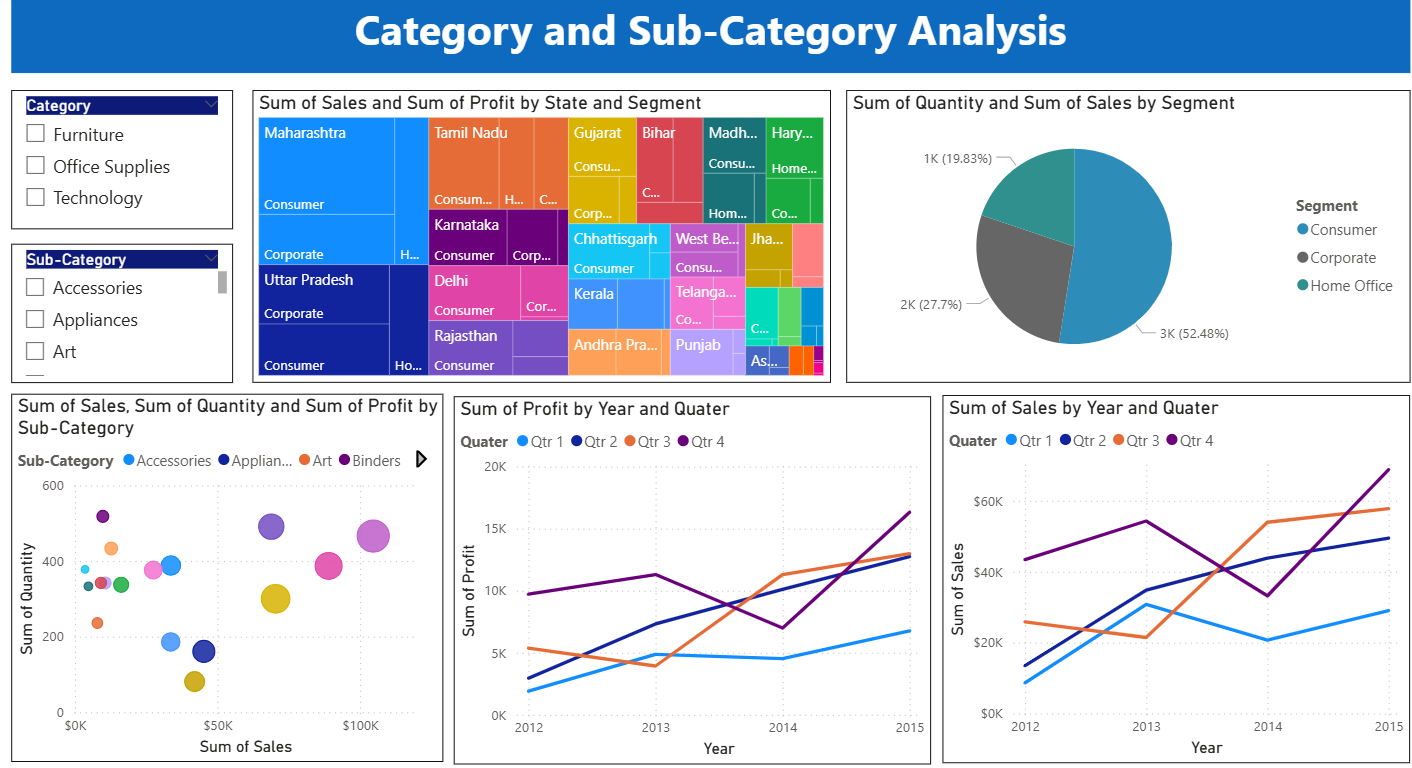

The dashboard page shown, as its layout file describes it:
{"tool":"powerbi","page":{"name":"Category and Sub-Category","canvas":[1280,720],"ordinal":2},"visuals":[{"type":"textbox","box":[10,0,1261.4,70],"z":0},{"type":"slicer","fields":{"Values":["Orders.Category"]},"box":[10,85.8,200.3,125.6],"z":1000},{"type":"slicer","fields":{"Values":["Orders.Sub-Category"]},"box":[10,223.9,200.3,125.6],"z":2000},{"type":"treemap","fields":{"Details":["Orders.Segment"],"Values":["Sum(Orders.Sales)"],"Group":["Orders.State"]},"box":[227.6,85.8,521.2,263.7],"z":3000},{"type":"pieChart","fields":{"Category":["Orders.Segment"],"Y":["Sum(Orders.Quantity)"]},"box":[762.5,85.8,508.8,263.7],"z":4000},{"type":"scatterChart","fields":{"Series":["Orders.Sub-Category"],"X":["Sum(Orders.Sales)"],"Y":["Sum(Orders.Quantity)"],"Size":["Sum(Orders.Profit)"]},"box":[10,359.5,389.4,332.1],"z":5000},{"type":"lineChart","fields":{"Category":["Orders.Year"],"Series":["Orders.Quater"],"Y":["Sum(Orders.Profit)"]},"box":[409.3,362,430.4,332.1],"z":5001},{"type":"lineChart","fields":{"Category":["Orders.Year"],"Series":["Orders.Quater"],"Y":["Sum(Orders.Sales)"]},"box":[849.6,360.7,421.7,332.1],"z":5002}]}

Visuals, with their boxes on the page's 1280x720 design canvas (x1, y1, x2, y2). These are canvas units, not pixel positions in the 1412x768 screenshot, which may show the page scaled, cropped or inside an application window:
textbox: 10,0,1271,70
slicer - Orders.Category: 10,86,210,211
slicer - Orders.Sub-Category: 10,224,210,350
treemap - Orders.Segment x Sum(Orders.Sales): 228,86,749,350
pieChart - Orders.Segment x Sum(Orders.Quantity): 762,86,1271,350
scatterChart - Orders.Sub-Category x Sum(Orders.Sales): 10,360,399,692
lineChart - Orders.Year x Orders.Quater: 409,362,840,694
lineChart - Orders.Year x Orders.Quater: 850,361,1271,693
